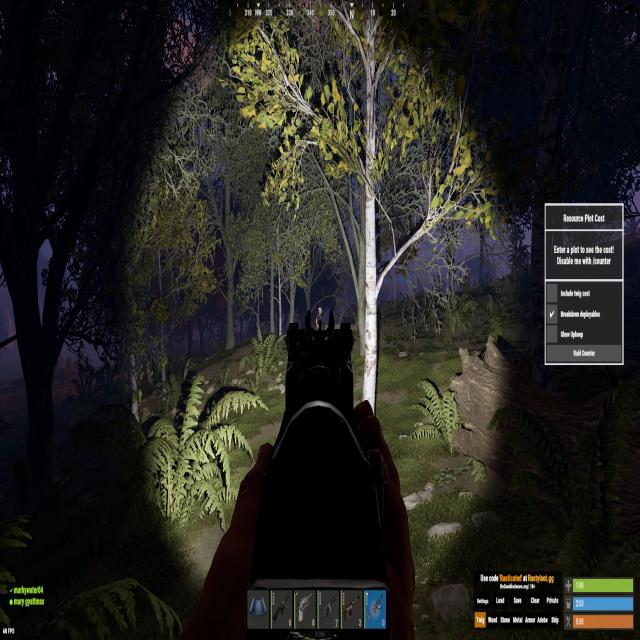Player: (315, 306, 323, 331)
